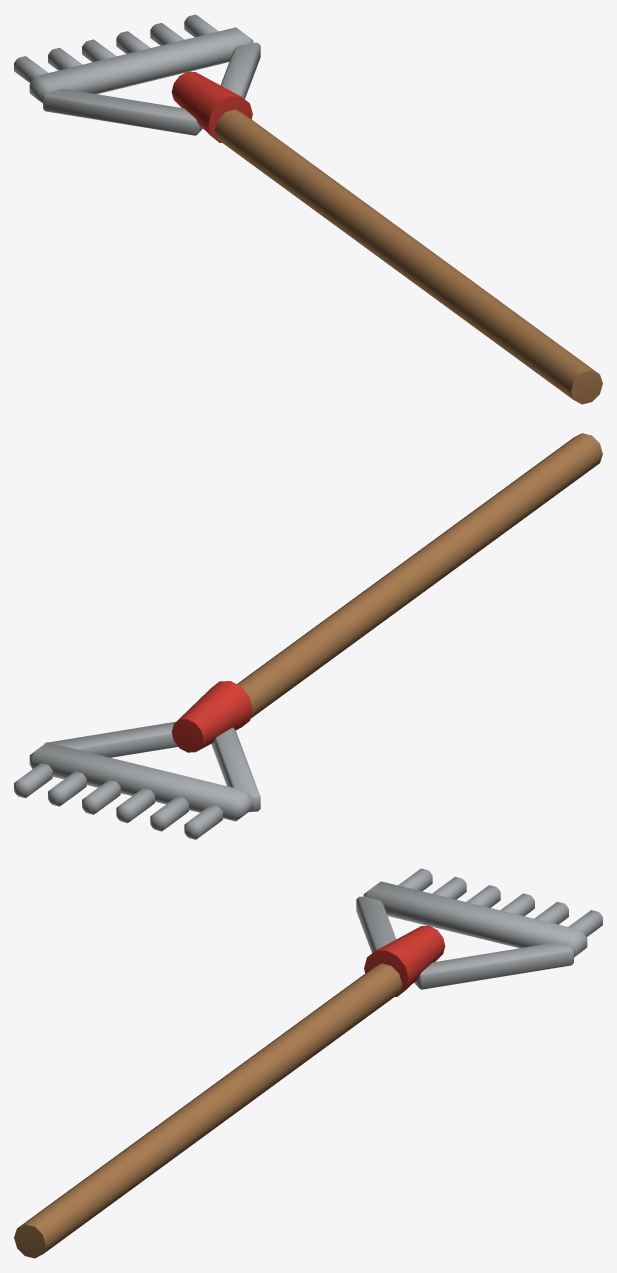
The model's file is SM_Rake_01.glb.
3 views of the same model, one above another, from view 1: azimuth 30°, elevation 25°; view 2: azimuth 150°, elevation 25°; view 3: azimuth 330°, elevation 25° (orthographic).
Parts seen in each view (by area): view 1: SM_Rake_01; view 2: SM_Rake_01; view 3: SM_Rake_01.
Part boxes in pixels (box(x1,y1,x2,y2)): SM_Rake_01: box(14, 14, 602, 404); SM_Rake_01: box(14, 433, 602, 839); SM_Rake_01: box(14, 868, 602, 1258).
Bounding box in the file's own units: 0.4061 × 0.084 × 1.57.
Materials: 1 (1 with a texture image).
